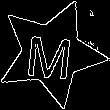M_N: (25, 25, 77, 81)
